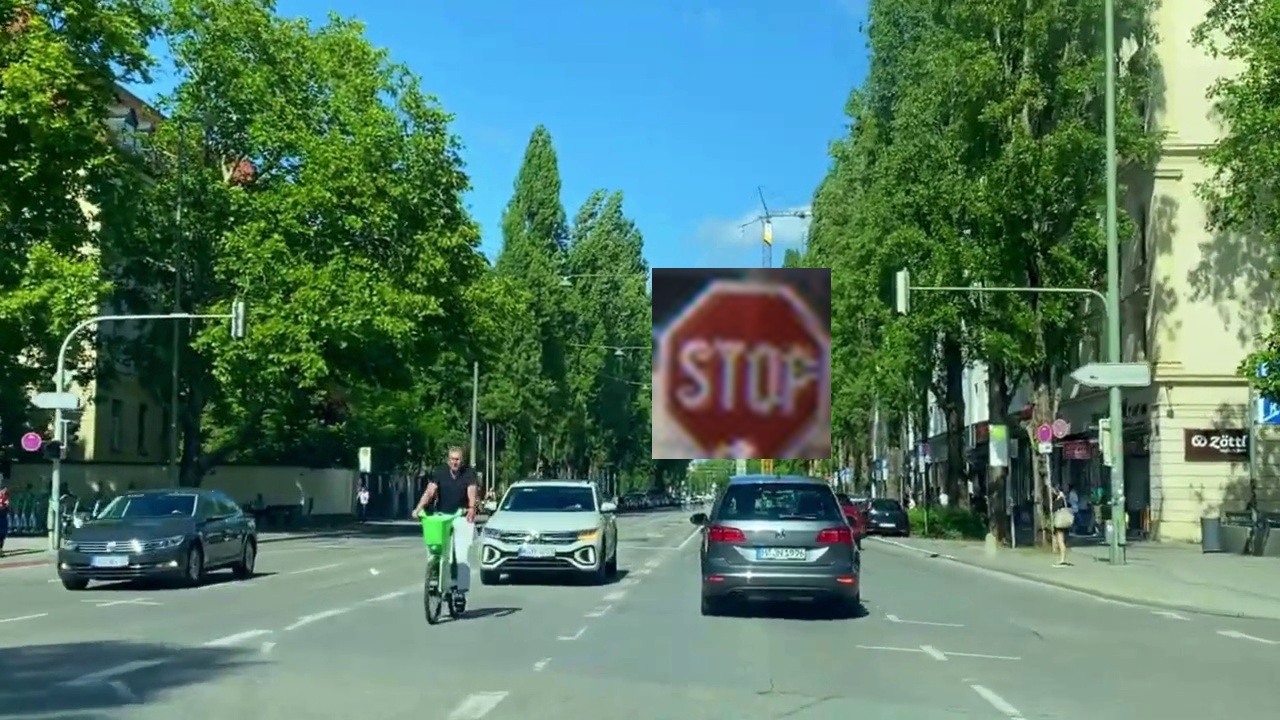Stop: (652, 268, 831, 459)
